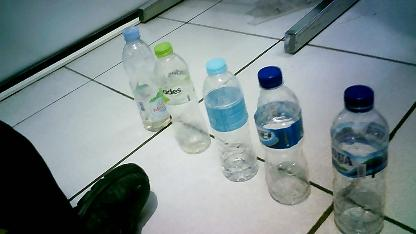Plastic Bottle: (331, 86, 389, 234), (253, 66, 309, 204), (202, 58, 260, 181), (154, 43, 210, 154), (123, 26, 171, 130)
